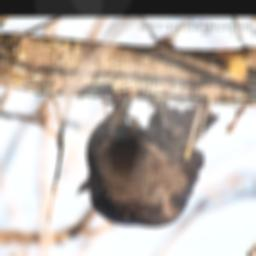Crow: (73, 89, 221, 229)
